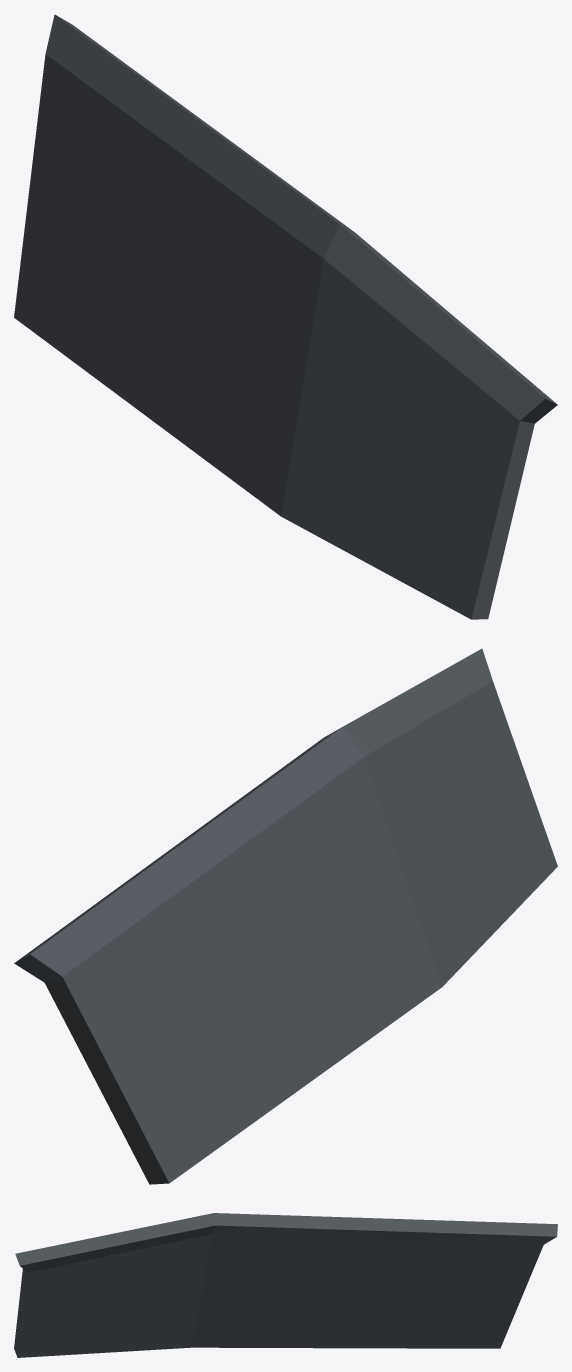
Rendered from Fighter_05_Frame_Right_Red.fbx.
3 views of the same model, one above another, from view 1: azimuth 30°, elevation 25°; view 2: azimuth 150°, elevation 25°; view 3: azimuth 270°, elevation 25° (orthographic). The views are drawn at different scales.
Parts seen in each view (by area): view 1: Fighter_05_Frame_Right_Red; view 2: Fighter_05_Frame_Right_Red; view 3: Fighter_05_Frame_Right_Red.
Part boxes in pixels (bbox=[...]): Fighter_05_Frame_Right_Red: bbox=[14, 14, 557, 619]; Fighter_05_Frame_Right_Red: bbox=[14, 648, 557, 1184]; Fighter_05_Frame_Right_Red: bbox=[14, 1213, 557, 1357].
Bounding box in the file's own units: 92.67 × 182 × 591.
Materials: 1 (1 with a texture image).
